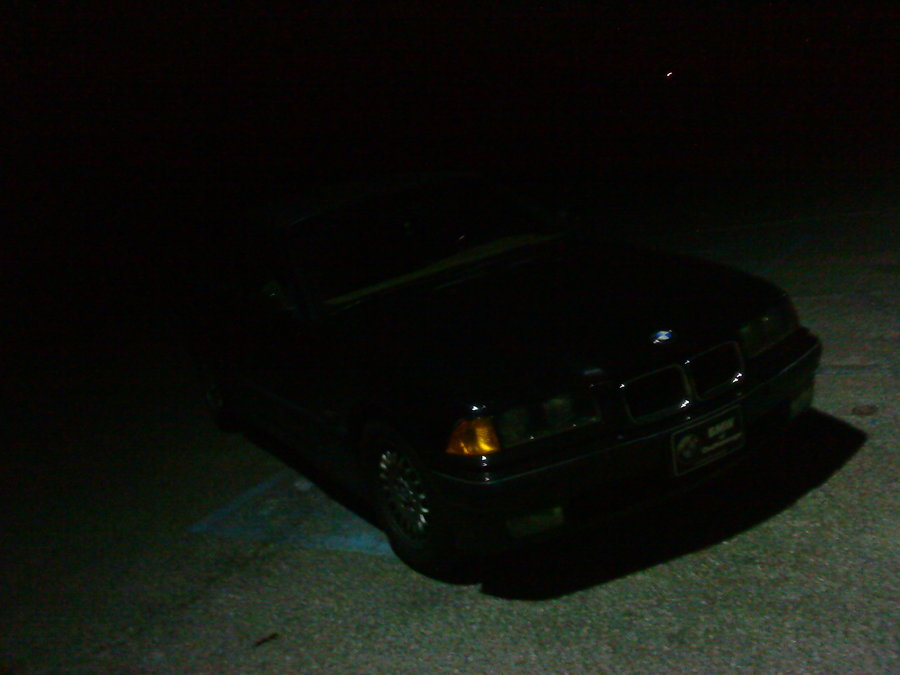car: (143, 140, 837, 604)
